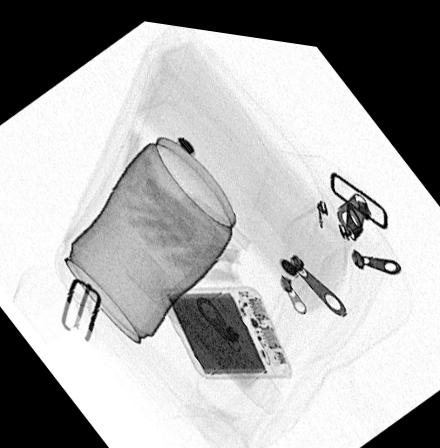Powerbank: (157, 275, 295, 374)
